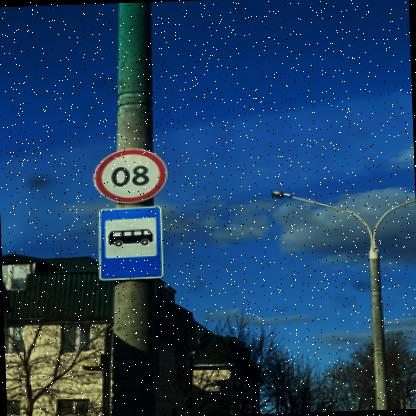speedlimit: (94, 147, 170, 203)
